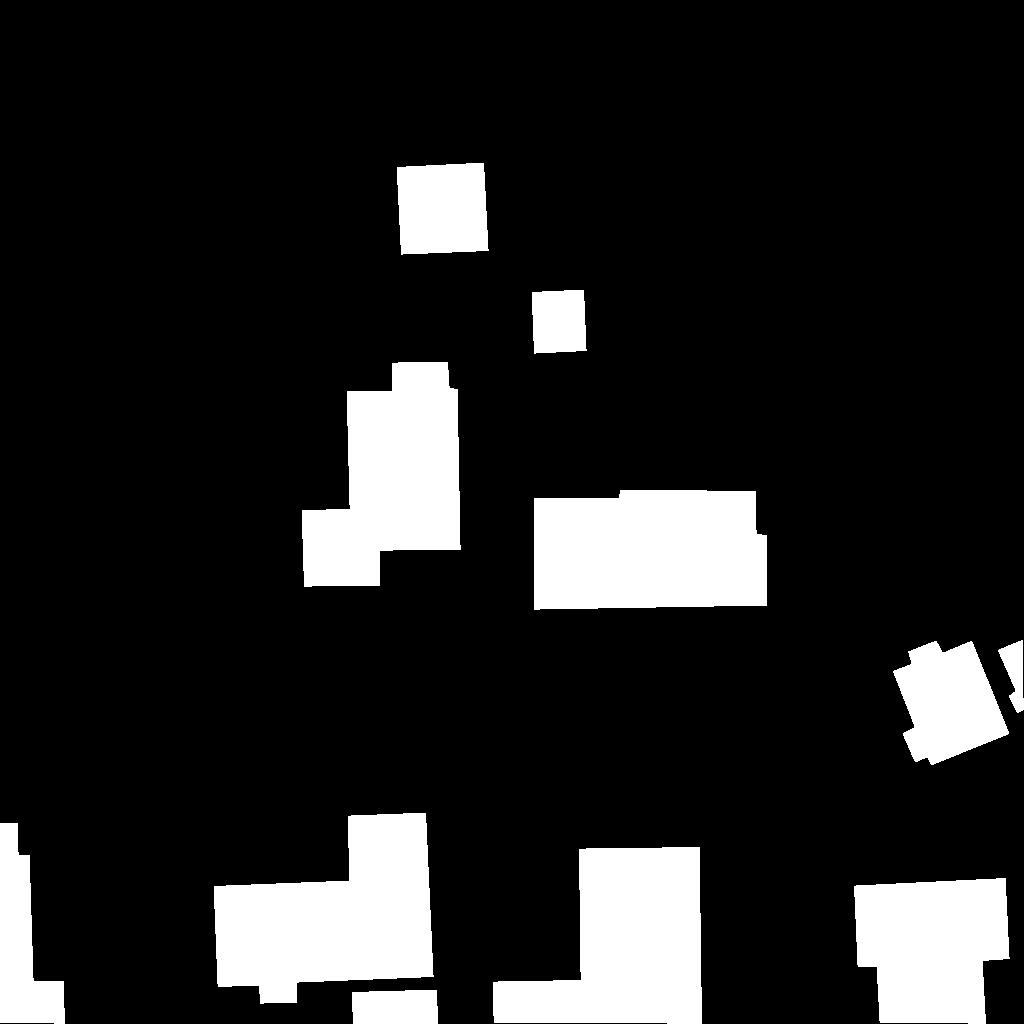building: (214, 813, 434, 1004), (493, 847, 703, 1024), (302, 362, 461, 587), (534, 489, 768, 610), (854, 878, 1010, 1024), (893, 641, 1010, 766), (0, 823, 66, 1024), (397, 163, 489, 255), (532, 290, 587, 354), (352, 990, 439, 1024), (998, 640, 1024, 714)
